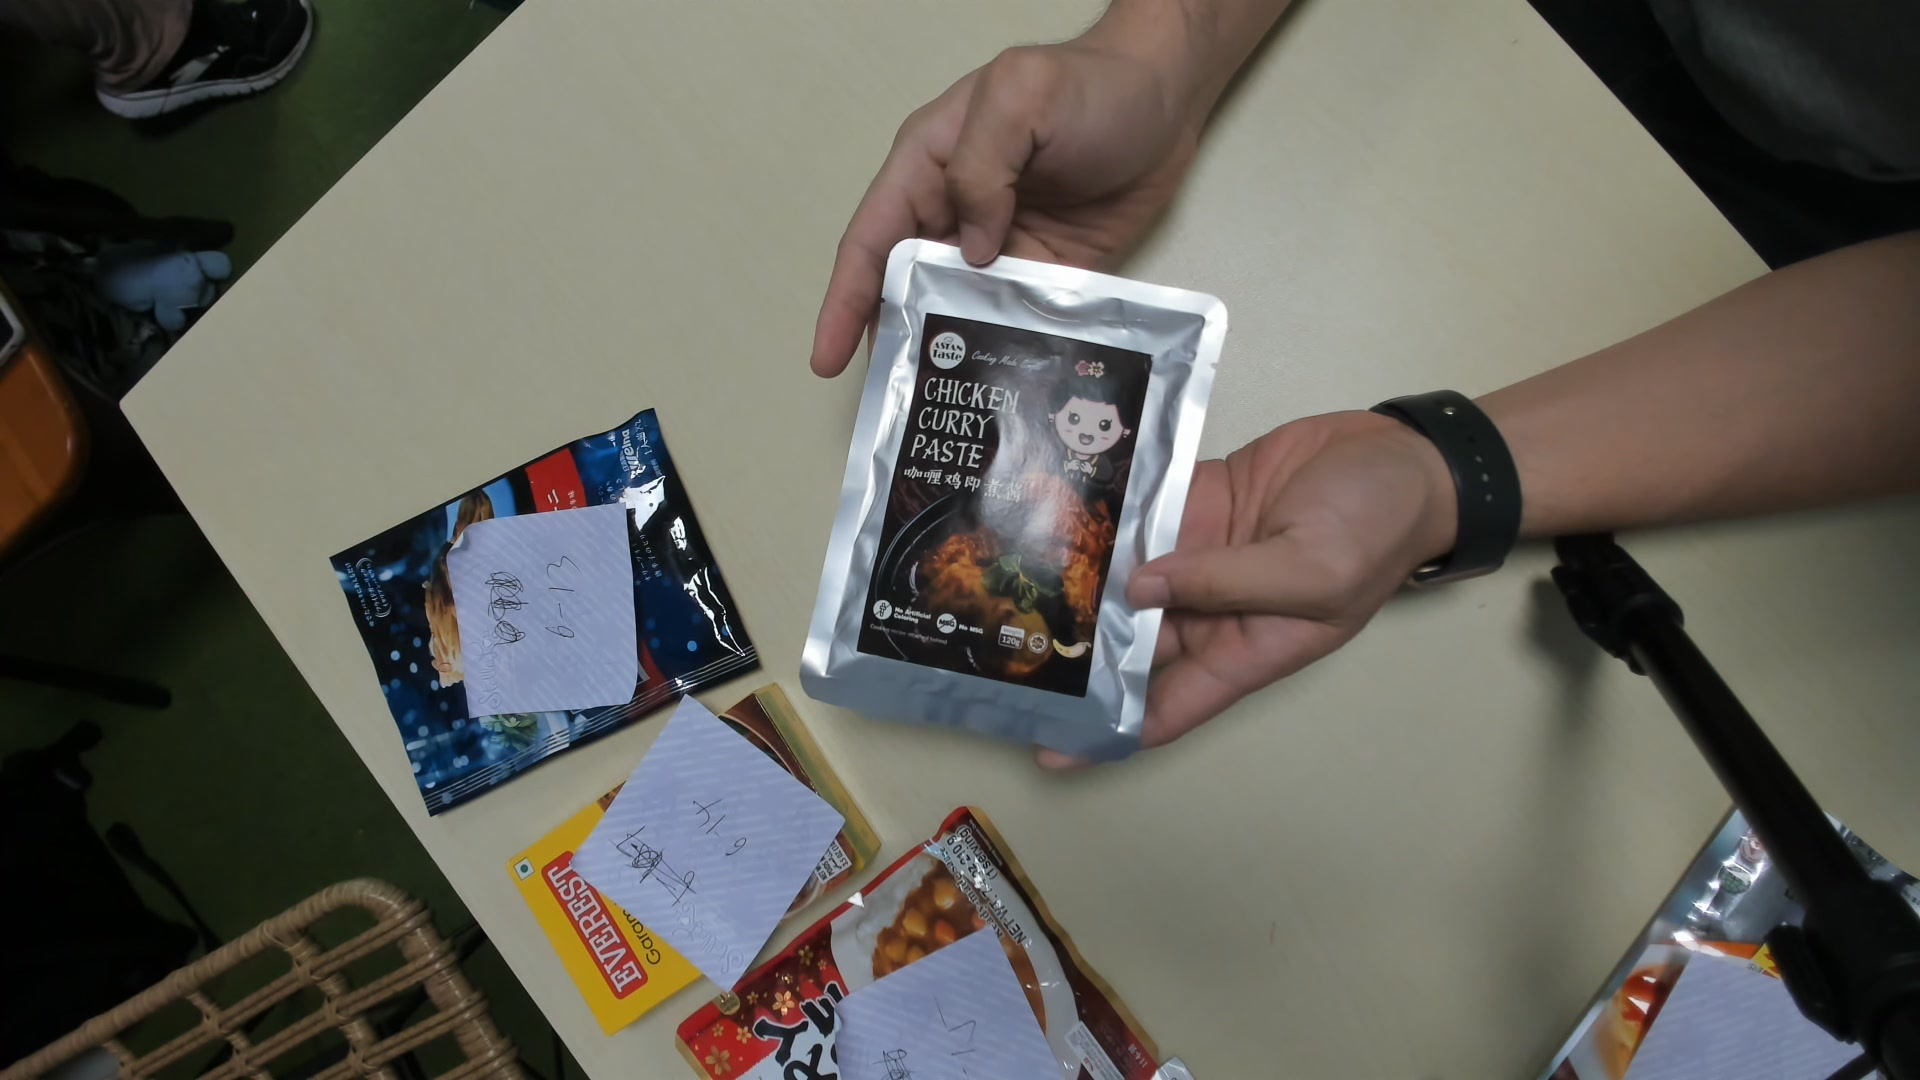CurryPastePowderSauce_100-199g_Halal_NonHealthy: (803, 241, 1218, 760)
